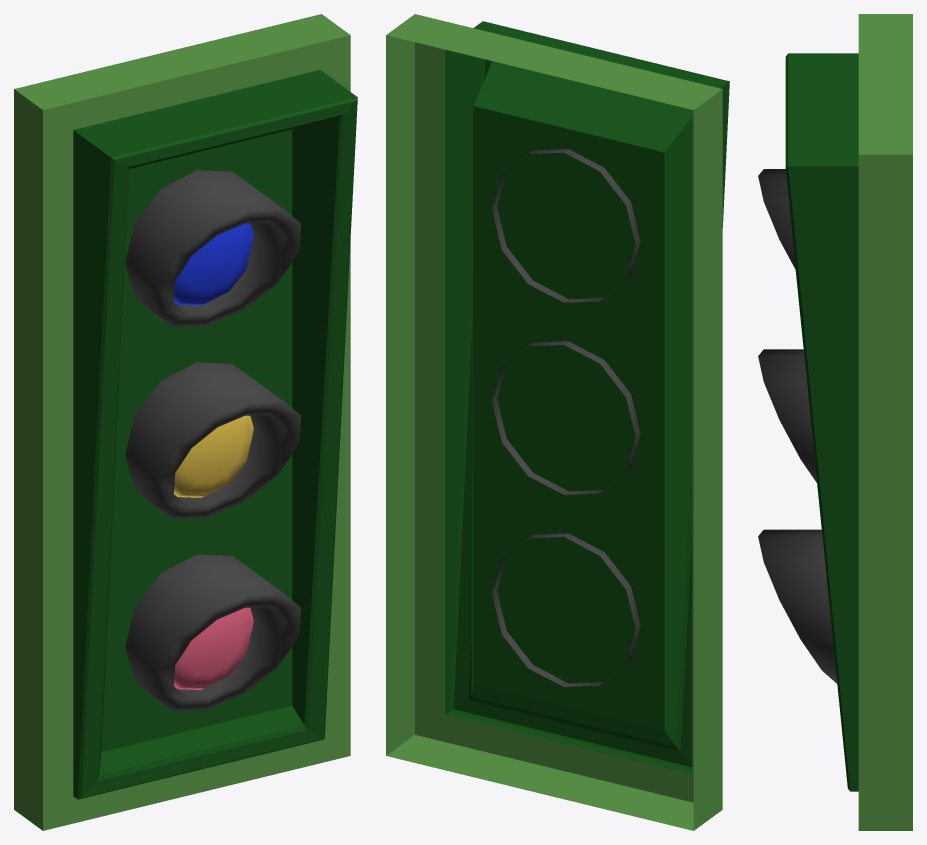
File: Traffic_Light.fbx
3 views of the same model, side by side, from view 1: azimuth 30°, elevation 25°; view 2: azimuth 150°, elevation 25°; view 3: azimuth 270°, elevation 25° (orthographic). The views are drawn at different scales.
Visible parts, largest first — view 1: Traffic_Light; view 2: Traffic_Light; view 3: Traffic_Light.
Boxes of the visible parts, x1,y1,x2,y2 form: Traffic_Light: (14,14,357,830); Traffic_Light: (386,14,729,830); Traffic_Light: (758,14,912,830).
Bounding box in the file's own units: 7.93 × 17.75 × 3.68.
